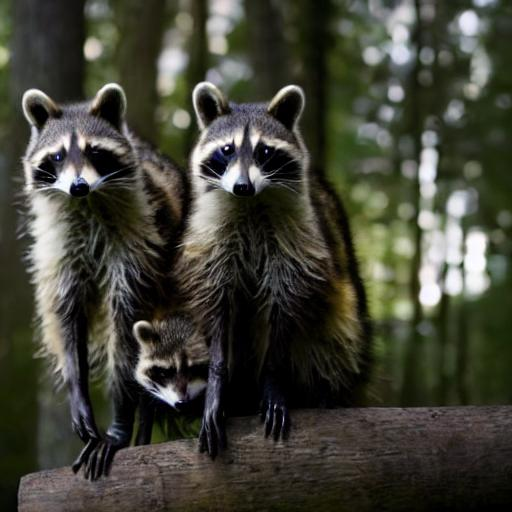raccoon: (182, 76, 374, 382), (16, 83, 181, 391), (126, 309, 217, 413)
